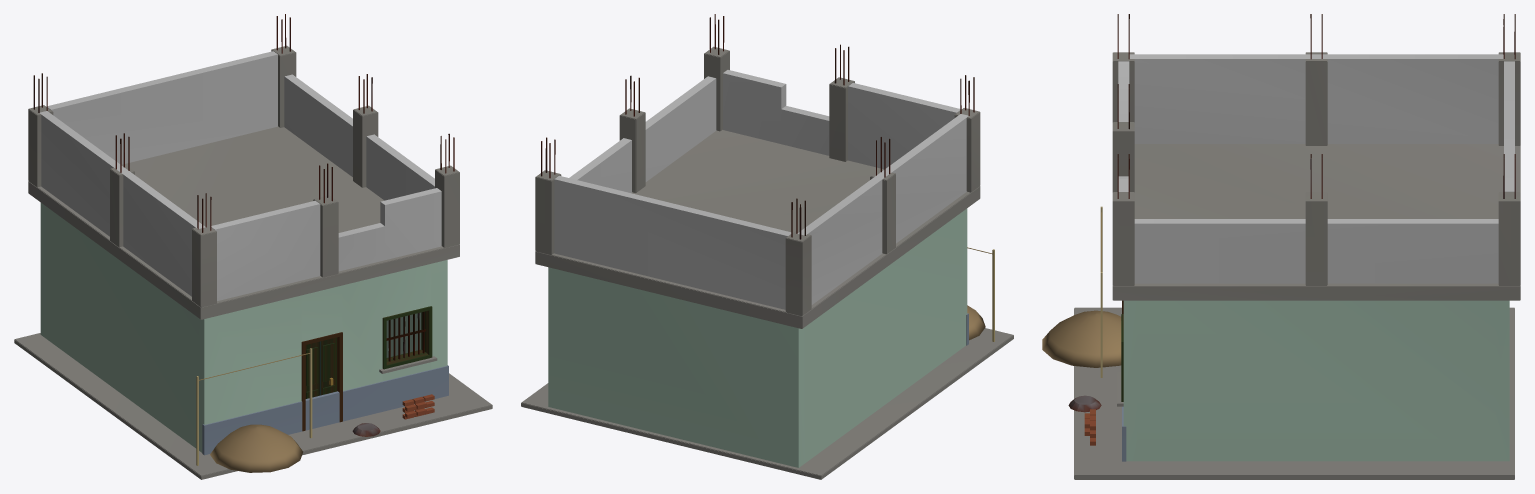
Rendered from house_kit_e.glb.
3 views of the same model, side by side, from view 1: azimuth 30°, elevation 25°; view 2: azimuth 150°, elevation 25°; view 3: azimuth 270°, elevation 25° (orthographic). The views are drawn at different scales.
Parts seen in each view (by area): view 1: hb_main, hb_brick, hb_props, hb_metal; view 2: hb_main, hb_brick, hb_metal; view 3: hb_main, hb_brick, hb_metal, hb_props.
Boxes of the visible parts, x1=… form: hb_main: x1=14, y1=45, x2=492, y2=479; hb_brick: x1=40, y1=51, x2=441, y2=419; hb_props: x1=196, y1=306, x2=432, y2=465; hb_metal: x1=33, y1=14, x2=454, y2=436; hb_main: x1=521, y1=46, x2=1013, y2=479; hb_brick: x1=554, y1=70, x2=968, y2=309; hb_metal: x1=541, y1=14, x2=974, y2=239; hb_main: x1=1042, y1=52, x2=1520, y2=479; hb_brick: x1=1084, y1=54, x2=1514, y2=445; hb_metal: x1=1068, y1=14, x2=1515, y2=412; hb_props: x1=1100, y1=206, x2=1123, y2=401.
Bounding box in the file's own units: 7.2 × 6.2 × 8.67.
